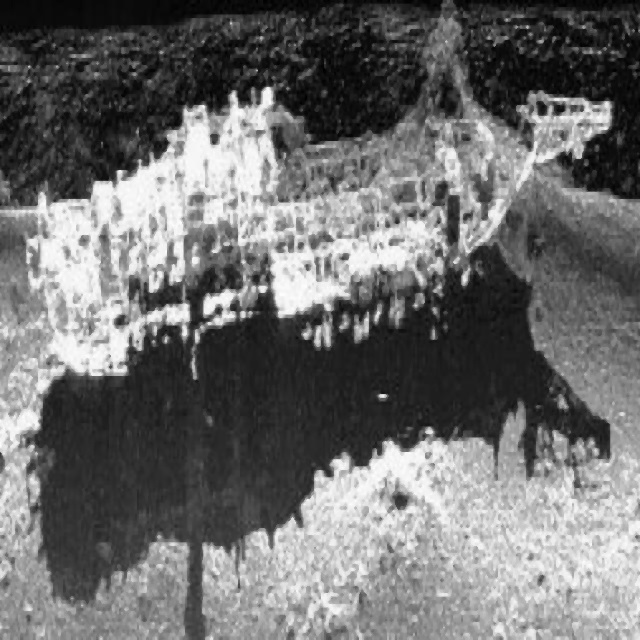Ship: (17, 8, 626, 480)
